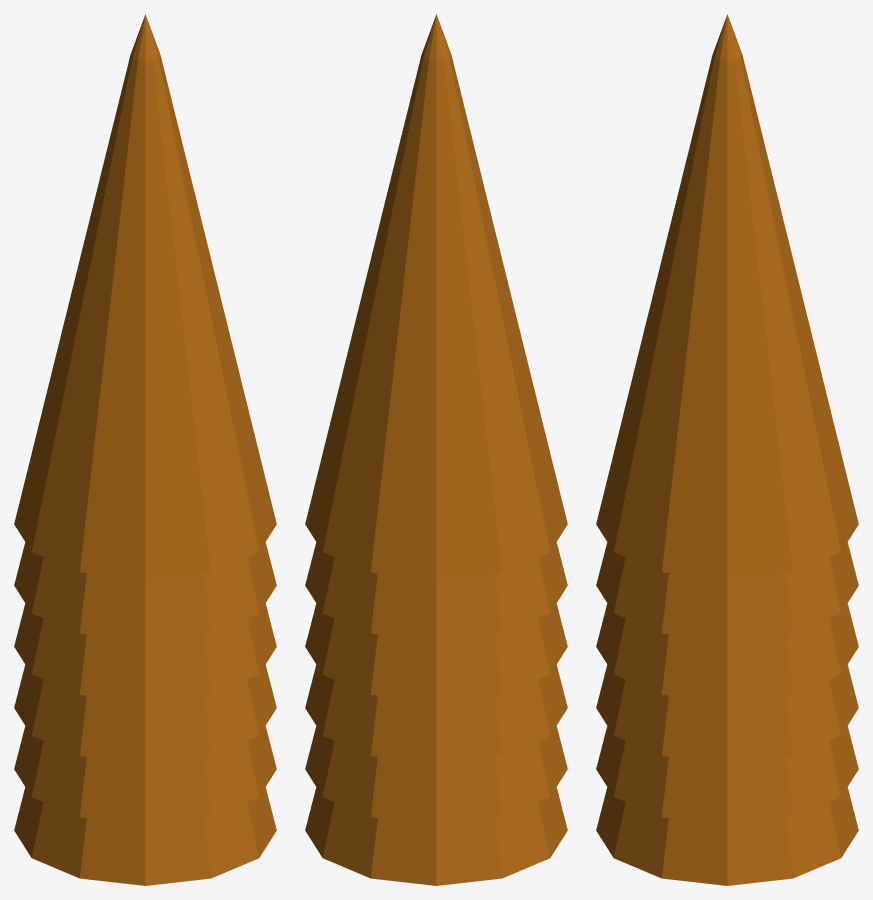
The model's file is SM_Cook_SorbetesConeStack_01.fbx.
3 views of the same model, side by side, from view 1: azimuth 30°, elevation 25°; view 2: azimuth 150°, elevation 25°; view 3: azimuth 270°, elevation 25° (orthographic).
Visible parts, largest first — view 1: SM_Cook_SorbetesConeStack_01; view 2: SM_Cook_SorbetesConeStack_01; view 3: SM_Cook_SorbetesConeStack_01.
Part boxes in pixels (box(x1,y1,x2,y2)): SM_Cook_SorbetesConeStack_01: box(14, 14, 276, 885); SM_Cook_SorbetesConeStack_01: box(305, 14, 567, 885); SM_Cook_SorbetesConeStack_01: box(596, 14, 858, 885).
Size of the model in its own units: 0.07 by 0.24 by 0.07.
Materials: 1 (1 with a texture image).
